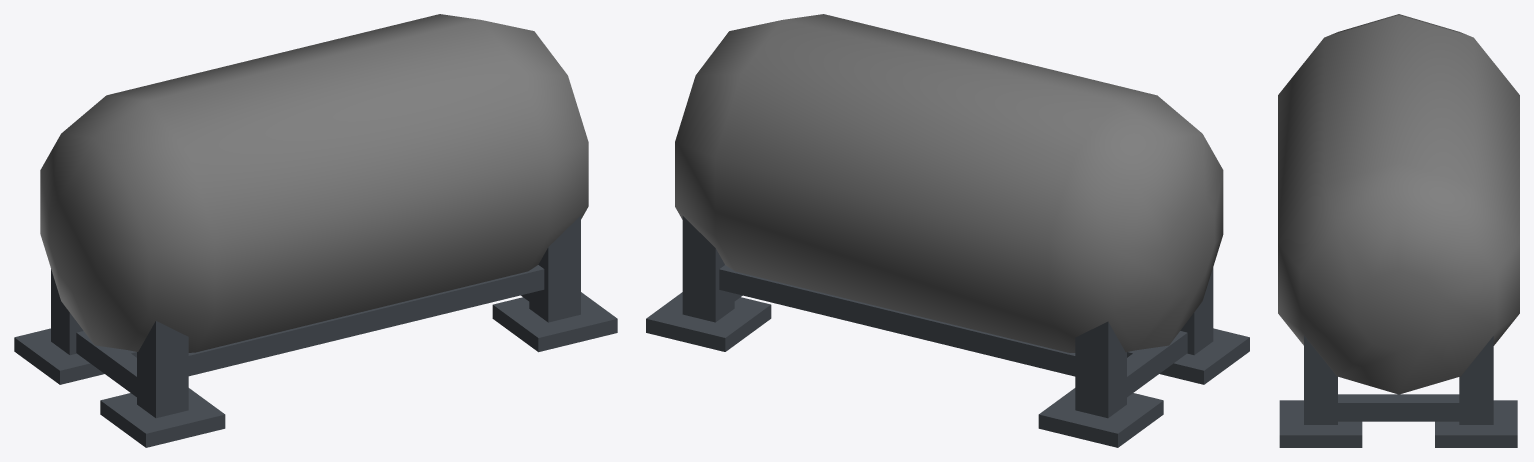
File: water_tank_02.fbx
3 renders of one model, left to right at view 1: azimuth 30°, elevation 25°; view 2: azimuth 150°, elevation 25°; view 3: azimuth 270°, elevation 25°, orthographic. The views are drawn at different scales.
Parts seen in each view (by area): view 1: water_tank_02; view 2: water_tank_02; view 3: water_tank_02.
Boxes of the visible parts, <box> form: water_tank_02: <box>14,14,617,447</box>; water_tank_02: <box>646,14,1249,447</box>; water_tank_02: <box>1278,14,1519,447</box>.
Size of the model in its own units: 6.04 by 3.36 by 2.9.
